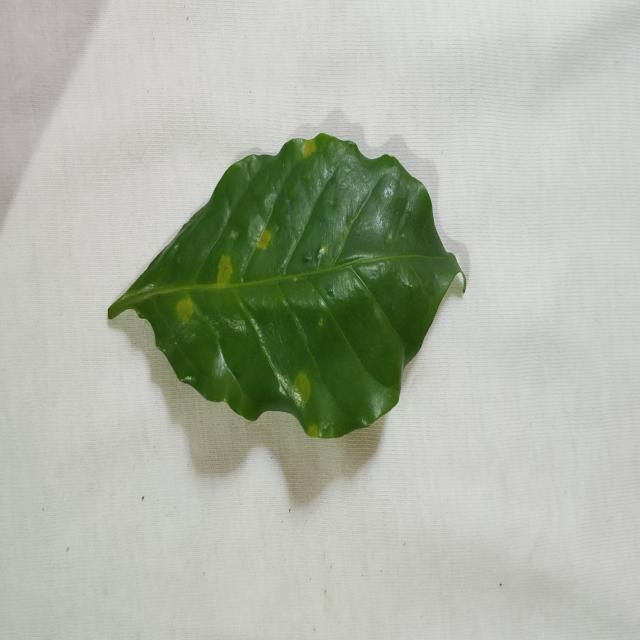Enfermedad-Roya: (106, 134, 468, 442)
